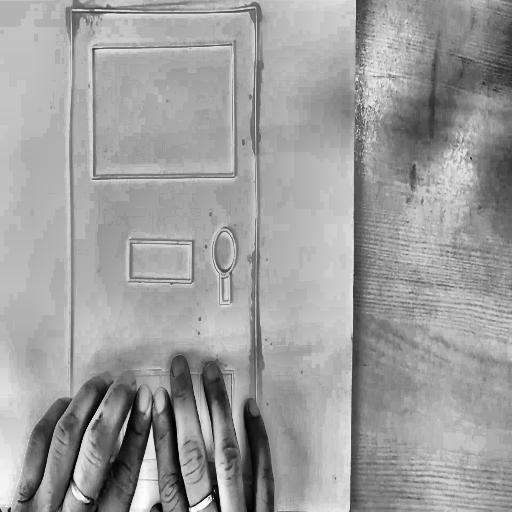door: (63, 0, 266, 491)
